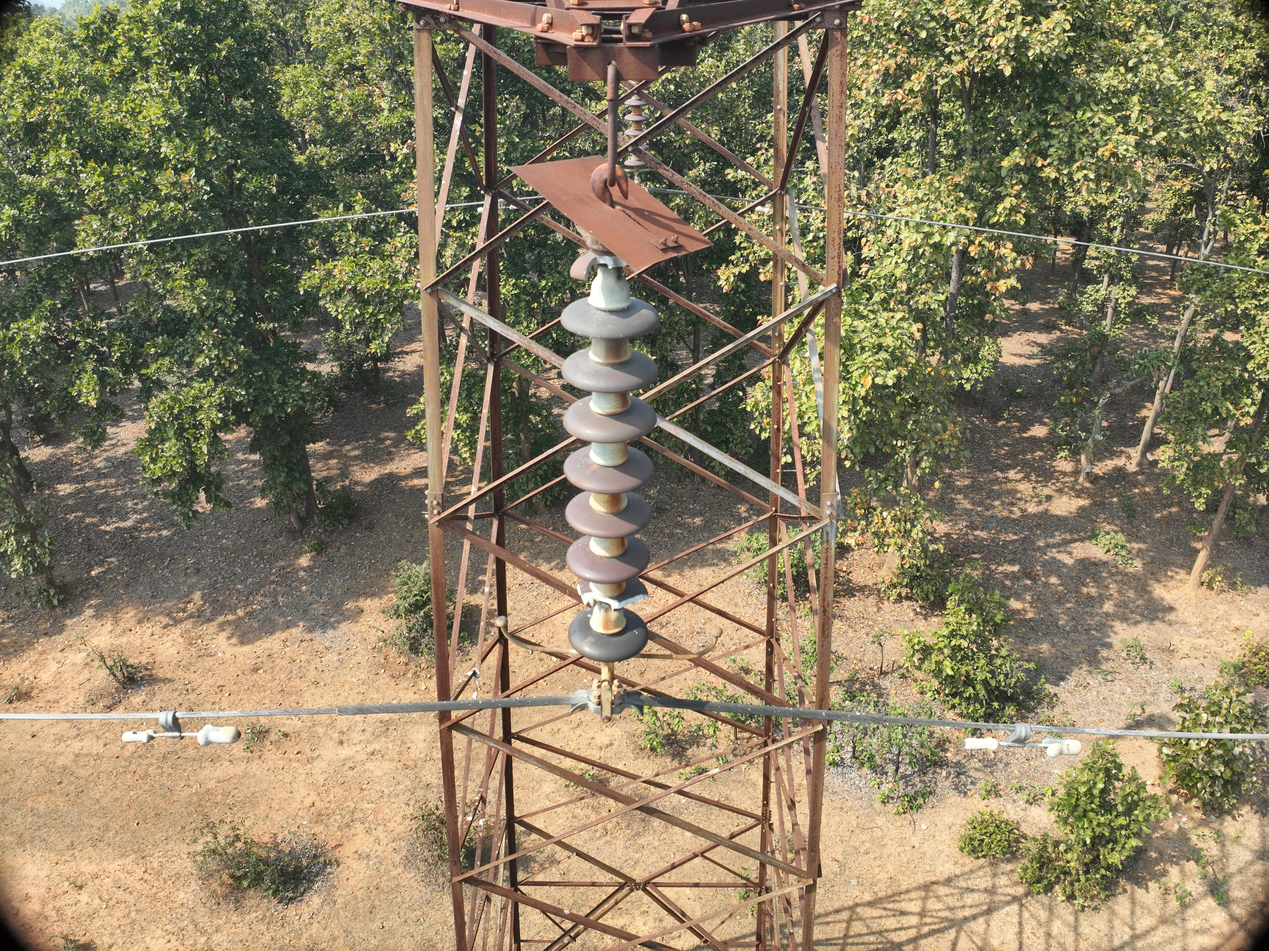broken_insulator: (559, 579, 663, 621)
